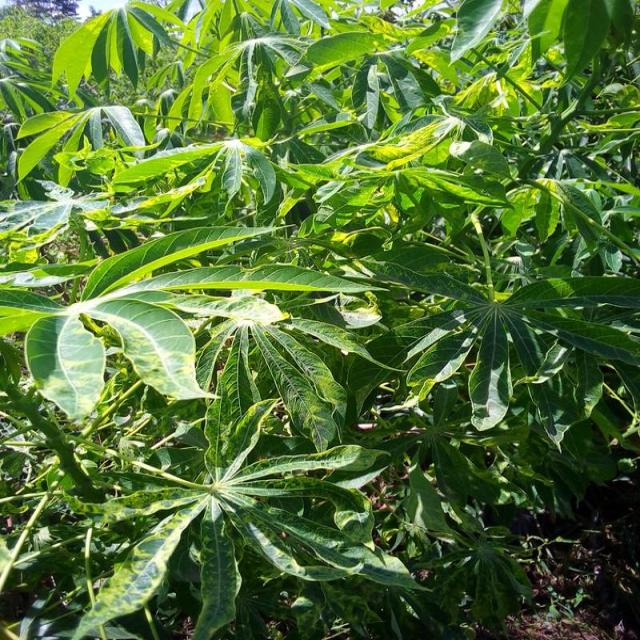cassava leaf: (2, 0, 640, 638), (25, 310, 107, 420)
